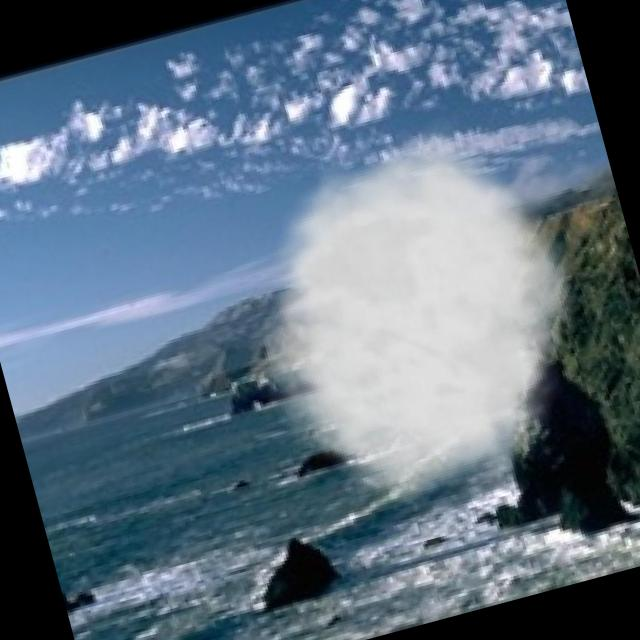Smoke: (200, 92, 628, 543)
